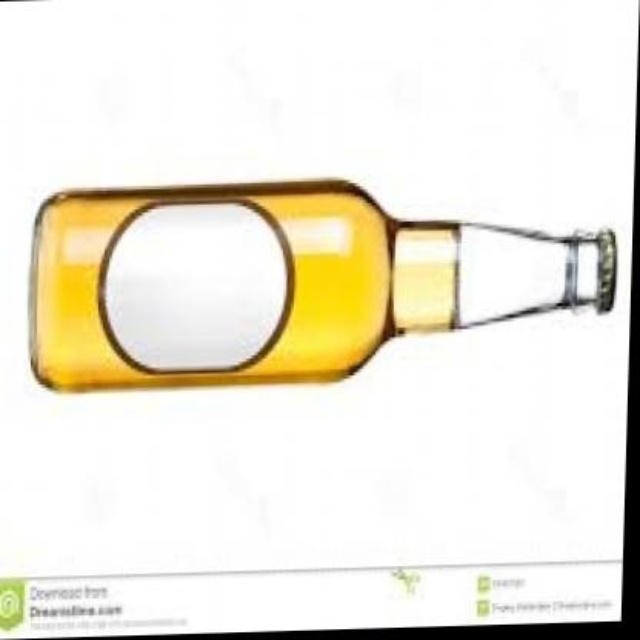trash: (31, 180, 614, 389)
